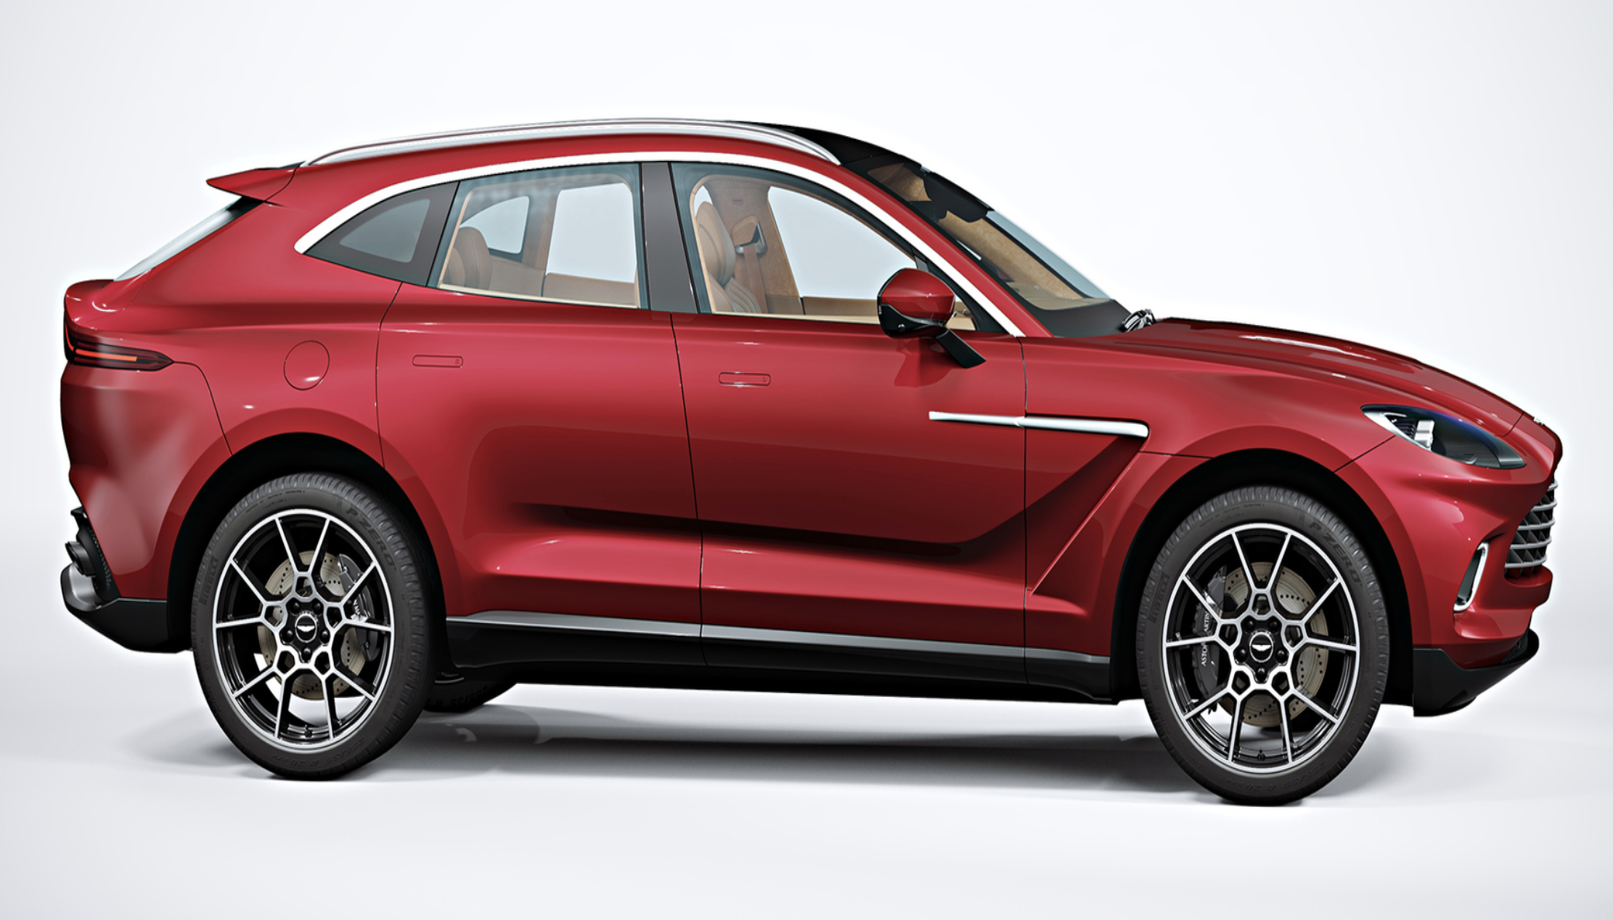hatch: (277, 335, 333, 396)
